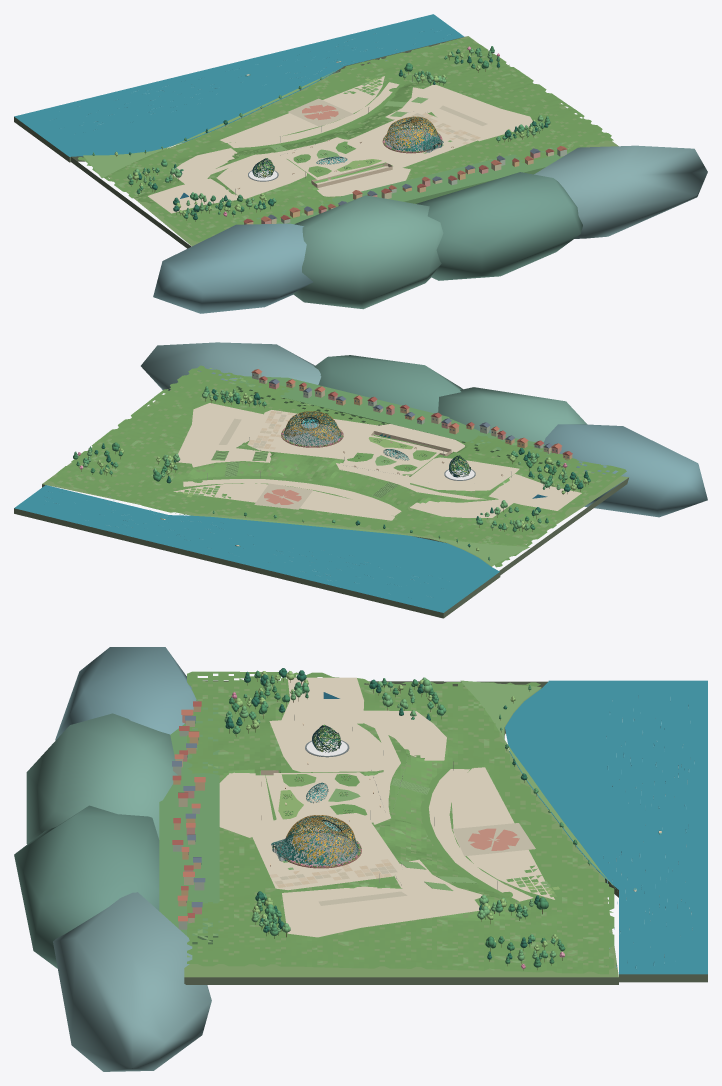
File: lam-vien.glb
The picture shows the model from 3 angles, top to bottom: view 1: azimuth 30°, elevation 25°; view 2: azimuth 150°, elevation 25°; view 3: azimuth 270°, elevation 25°; orthographic projection. The views are drawn at different scales.
Parts seen in each view (by area): view 1: Các lớp đồi thông phía sau, Địa hình nội suy giữa mép hồ và các tầng sân, Mặt hồ Xuân Hương, Đế địa hình cắt theo bờ hồ, Sân lễ hội cong, dải dạo và dải xanh, Sườn đất dưới dãy nhà, Tán tròn và tầng thông, Sân đỗ xe phía đông, Sân cao quanh nhà hát, Sân cao quanh nụ atisô, Sân dạo và nhánh hồ cảnh quan phía tây, Sân vườn giữa hai biểu tượng (+11 smaller); view 2: Địa hình nội suy giữa mép hồ và các tầng sân, Mặt hồ Xuân Hương, Các lớp đồi thông phía sau, Đế địa hình cắt theo bờ hồ, Sân lễ hội cong, dải dạo và dải xanh, Sườn đất dưới dãy nhà, Tán tròn và tầng thông, Sân đỗ xe phía đông, Sân cao quanh nhà hát, Sân cao quanh nụ atisô, Sân dạo và nhánh hồ cảnh quan phía tây, Sân vườn giữa hai biểu tượng (+11 smaller); view 3: Các lớp đồi thông phía sau, Địa hình nội suy giữa mép hồ và các tầng sân, Mặt hồ Xuân Hương, Đế địa hình cắt theo bờ hồ, Sân lễ hội cong, dải dạo và dải xanh, Sườn đất dưới dãy nhà, Sân đỗ xe phía đông, Tán tròn và tầng thông, Sân cao quanh nhà hát, Sân cao quanh nụ atisô, Sân dạo và nhánh hồ cảnh quan phía tây, Sân thương mại tầng dưới sau mái xanh (+12 smaller).
Part boxes in pixels (x1,y1,x2,y2): Các lớp đồi thông phía sau: (153,145,707,313); Địa hình nội suy giữa mép hồ và các tầng sân: (78,37,613,241); Mặt hồ Xuân Hương: (14,14,464,162); Đế địa hình cắt theo bờ hồ: (71,36,618,248); Sân lễ hội cong, dải dạo và dải xanh: (220,76,403,149); Sườn đất dưới dãy nhà: (233,143,572,224); Tán tròn và tầng thông: (92,46,550,220); Sân đỗ xe phía đông: (424,84,532,141); Sân cao quanh nhà hát: (347,112,483,168); Sân cao quanh nụ atisô: (216,152,306,198); Sân dạo và nhánh hồ cảnh quan phía tây: (148,178,237,213); Sân vườn giữa hai biểu tượng: (287,137,385,179); Địa hình nội suy giữa mép hồ và các tầng sân: (47,365,626,567); Mặt hồ Xuân Hương: (14,485,500,618); Các lớp đồi thông phía sau: (141,342,707,517); Đế địa hình cắt theo bờ hồ: (42,371,628,575); Sân lễ hội cong, dải dạo và dải xanh: (173,475,402,520); Sườn đất dưới dãy nhà: (233,376,576,468); Tán tròn và tầng thông: (73,386,590,560); Sân đỗ xe phía đông: (176,403,263,463); Sân cao quanh nhà hát: (247,410,377,459); Sân cao quanh nụ atisô: (407,457,519,490); Sân dạo và nhánh hồ cảnh quan phía tây: (488,474,581,510); Sân vườn giữa hai biểu tượng: (342,435,441,474); Các lớp đồi thông phía sau: (14,647,211,1071); Địa hình nội suy giữa mép hồ và các tầng sân: (187,671,614,974); Mặt hồ Xuân Hương: (504,680,707,982); Đế địa hình cắt theo bờ hồ: (184,680,618,984); Sân lễ hội cong, dải dạo và dải xanh: (420,767,554,902); Sườn đất dưới dãy nhà: (159,704,219,944); Sân đỗ xe phía đông: (282,886,479,937); Tán tròn và tầng thông: (224,668,590,969); Sân cao quanh nhà hát: (246,813,400,890); Sân cao quanh nụ atisô: (269,720,387,772); Sân dạo và nhánh hồ cảnh quan phía tây: (281,677,363,723); Sân thương mại tầng dưới sau mái xanh: (219,772,276,837).
Bounding box in the file's own units: 514 × 84.65 × 389.
